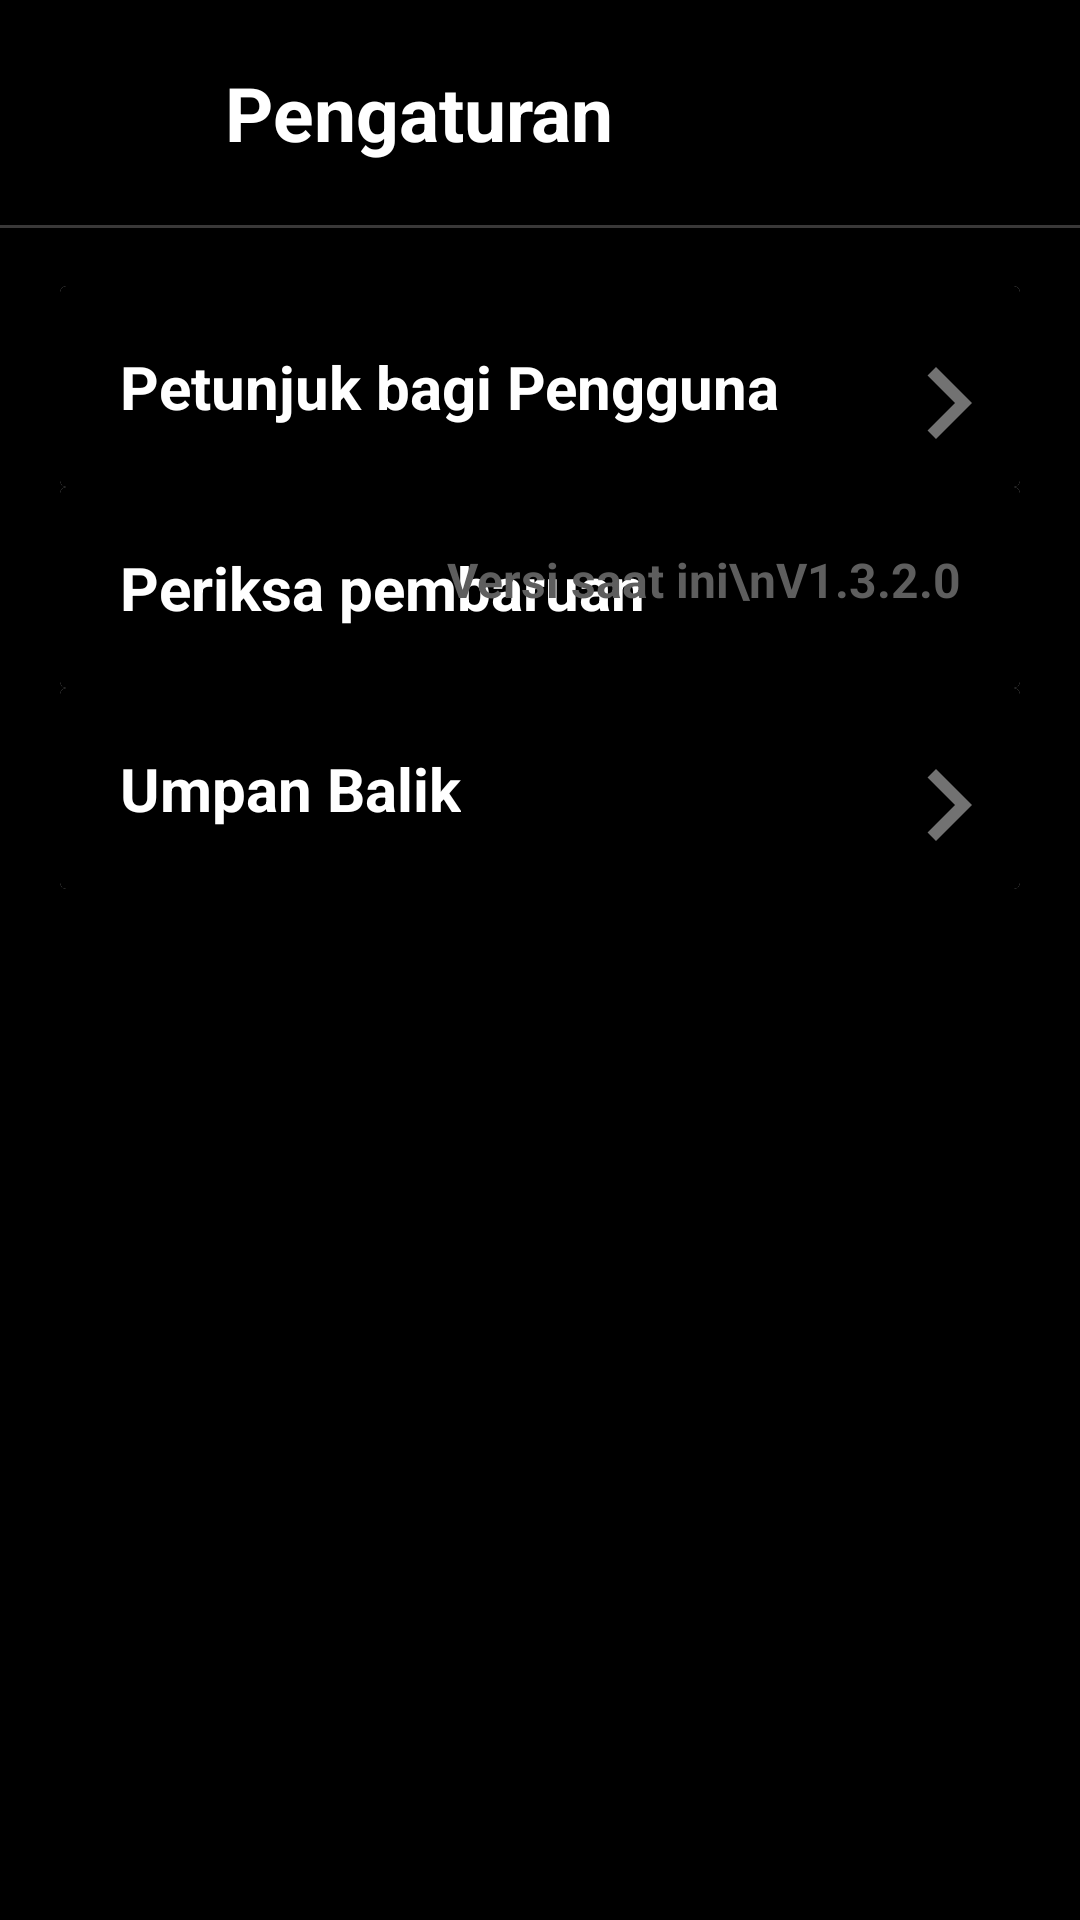

Point at icon controls on the screen. Image size 1080px×1920px, points as [x,y].
keyboard arrow right: [950,403], [950,805]
